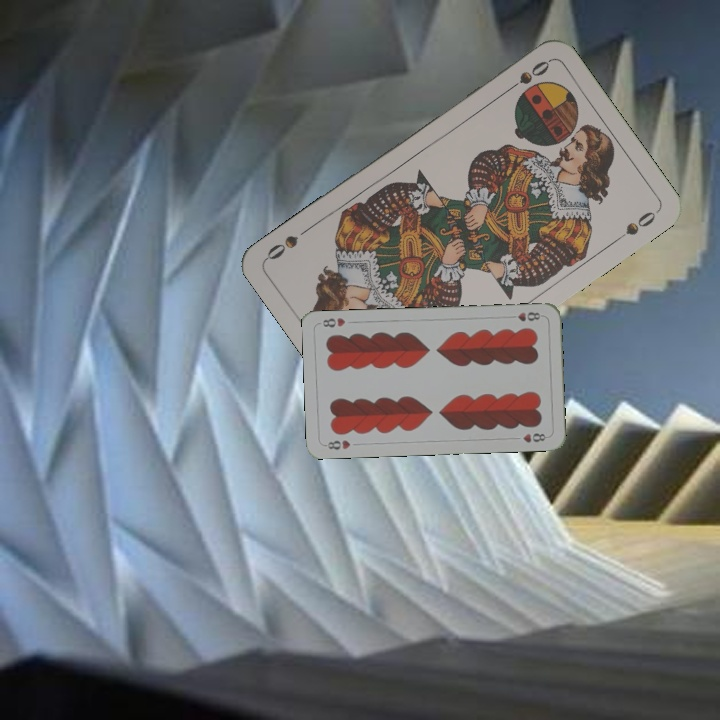H8: (505, 308, 543, 324), (321, 436, 353, 452)
SO: (500, 56, 553, 96)
